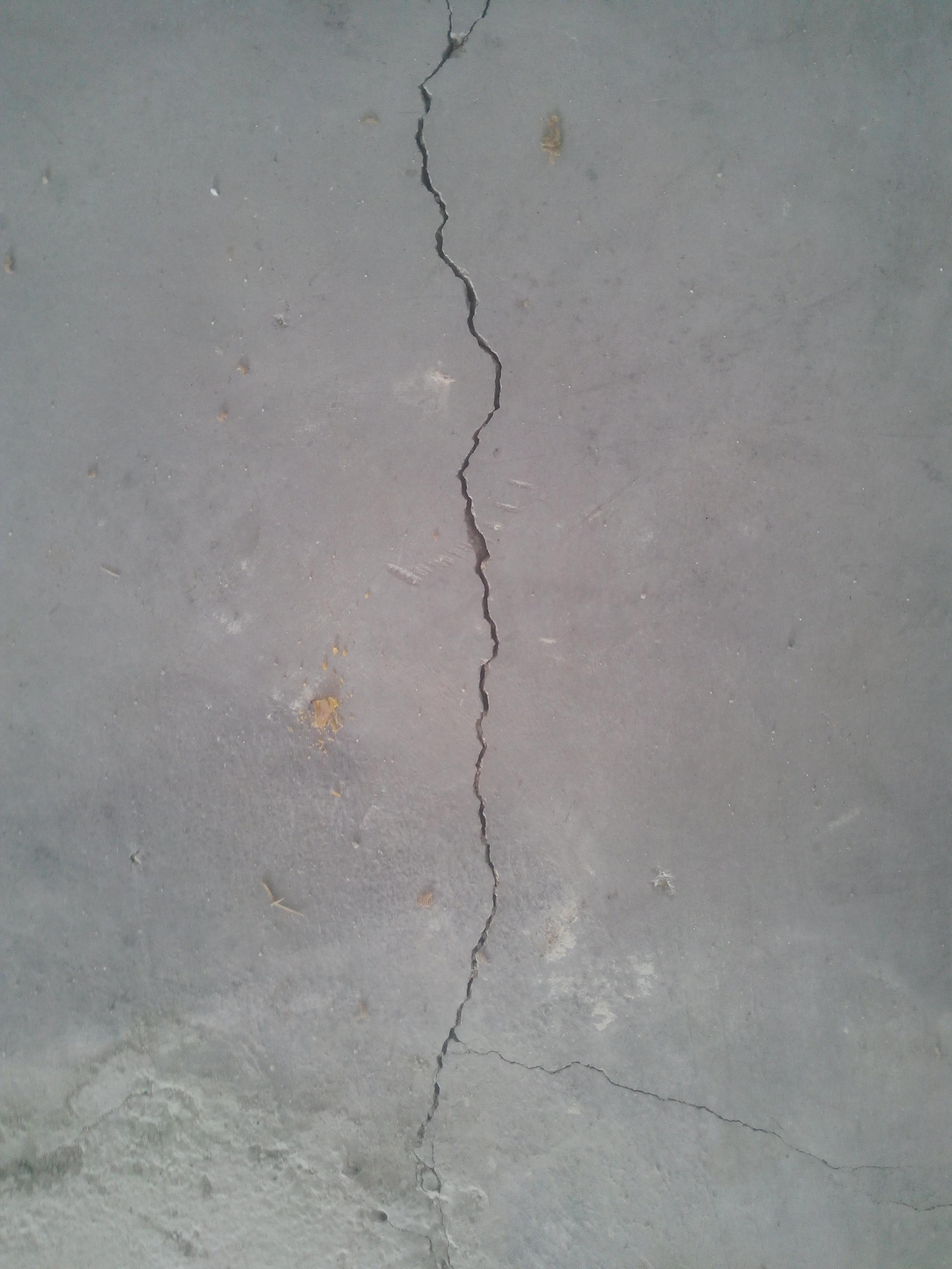Hairline-Crack: (447, 1040, 952, 1213)
Vertical Crack: (415, 0, 502, 1269)
